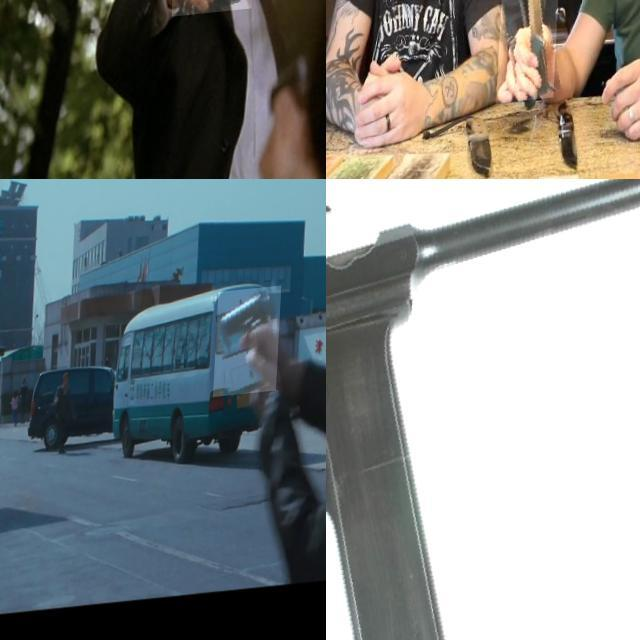-: (500, 0, 563, 109)
gun-knife-thesis - v11 Yolov5 augmented: (326, 179, 640, 640), (217, 293, 284, 403), (176, 0, 260, 58)
